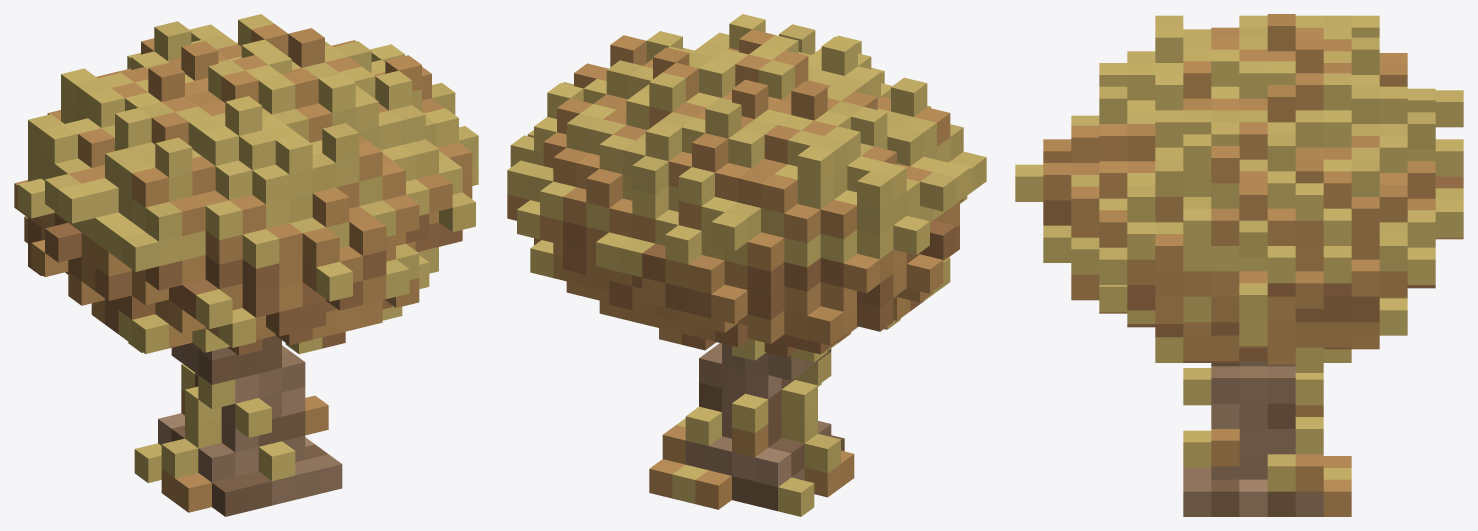
The model's file is apple_ancient_autumn_2.glb.
3 renders of one model, left to right at view 1: azimuth 30°, elevation 25°; view 2: azimuth 150°, elevation 25°; view 3: azimuth 270°, elevation 25°, orthographic. The views are drawn at different scales.
Visible parts, largest first — view 1: apple_ancient_autumn_2; view 2: apple_ancient_autumn_2; view 3: apple_ancient_autumn_2.
Boxes of the visible parts, bbox=[...] form: apple_ancient_autumn_2: bbox=[14, 14, 478, 516]; apple_ancient_autumn_2: bbox=[507, 14, 986, 516]; apple_ancient_autumn_2: bbox=[1015, 14, 1463, 516].
Size of the model in its own units: 18 by 17 by 16.
